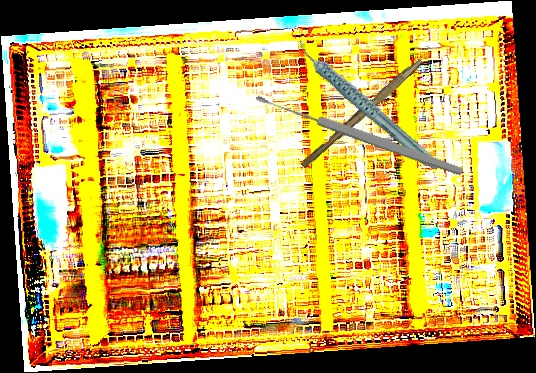Handpiece: (295, 14, 442, 194)
Scalpel Handle: (299, 54, 424, 172)
Surgical Spoon: (254, 90, 465, 179)
